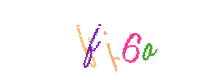6: (91, 0, 171, 80)
F: (51, 0, 131, 80), (61, 0, 141, 80)
J: (64, 0, 144, 80)
O: (108, 0, 188, 80)
